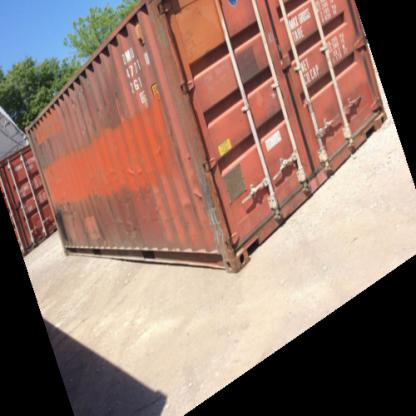Damage: (182, 178, 226, 253), (56, 193, 79, 247), (91, 86, 123, 121), (106, 213, 146, 240), (57, 82, 90, 113), (110, 158, 150, 180), (36, 132, 57, 166), (153, 132, 167, 162)
